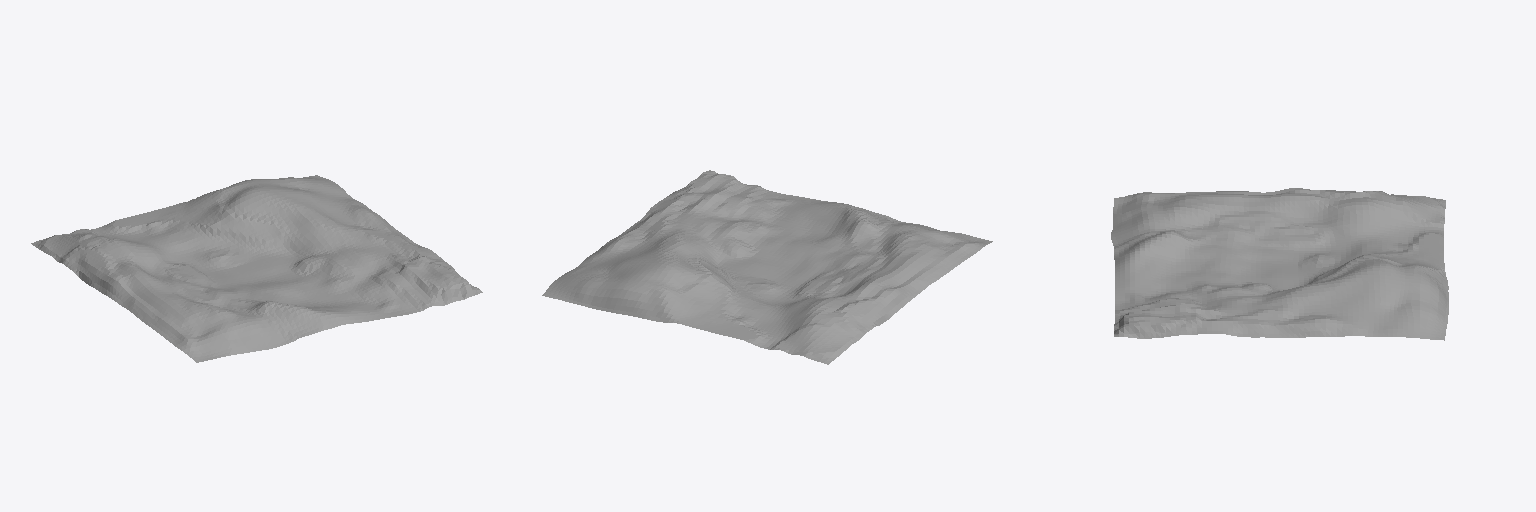
Rendered from SnowTerrain2.obj.
3 views of the same model, side by side, from view 1: azimuth 30°, elevation 25°; view 2: azimuth 150°, elevation 25°; view 3: azimuth 270°, elevation 25° (orthographic).
Visible parts, largest first — view 1: Plane_Plane.002; view 2: Plane_Plane.002; view 3: Plane_Plane.002.
Boxes of the visible parts, box(x1,y1,x2,y2) form: Plane_Plane.002: box(31, 175, 482, 362); Plane_Plane.002: box(542, 170, 992, 364); Plane_Plane.002: box(1111, 188, 1448, 340).
Size of the model in its own units: 63.5 by 6.28 by 63.96.